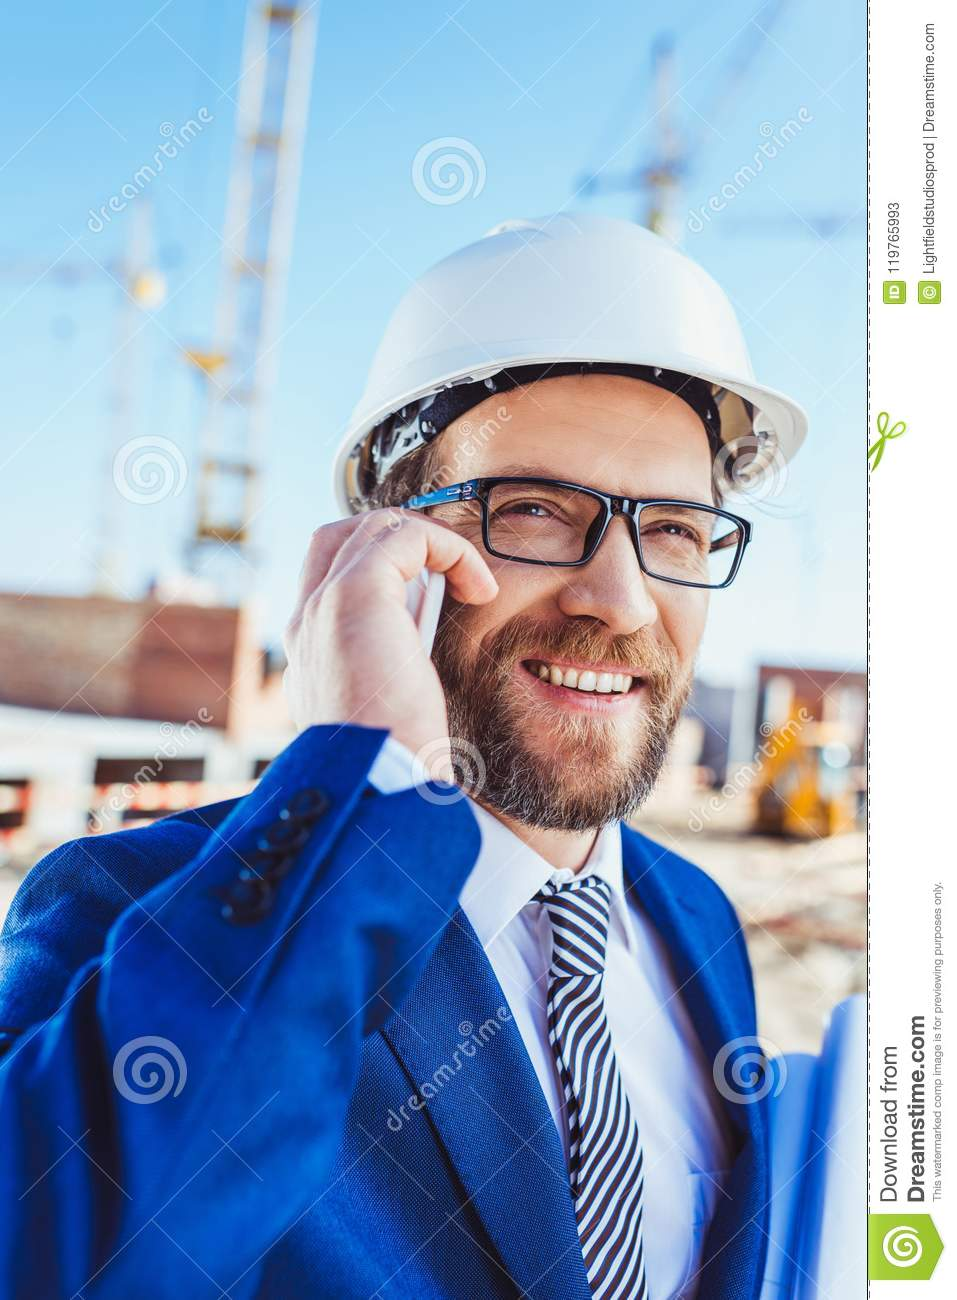talk: (280, 459, 716, 840)
